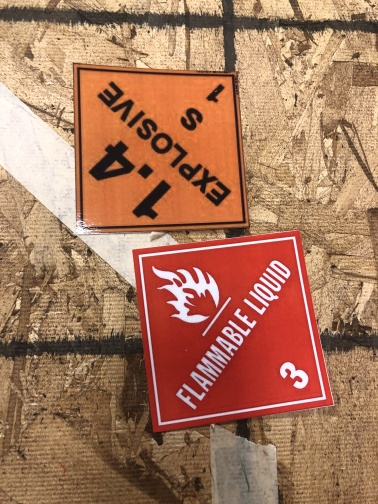Explosive: (72, 62, 251, 234)
FlammableLiquid: (132, 231, 334, 433)
